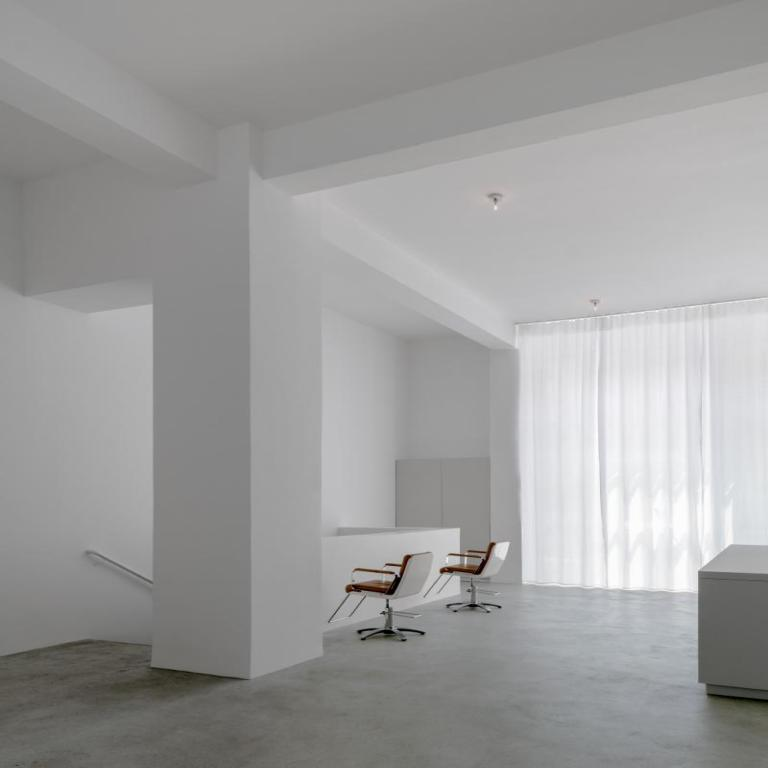white-walls: (25, 19, 730, 223)
